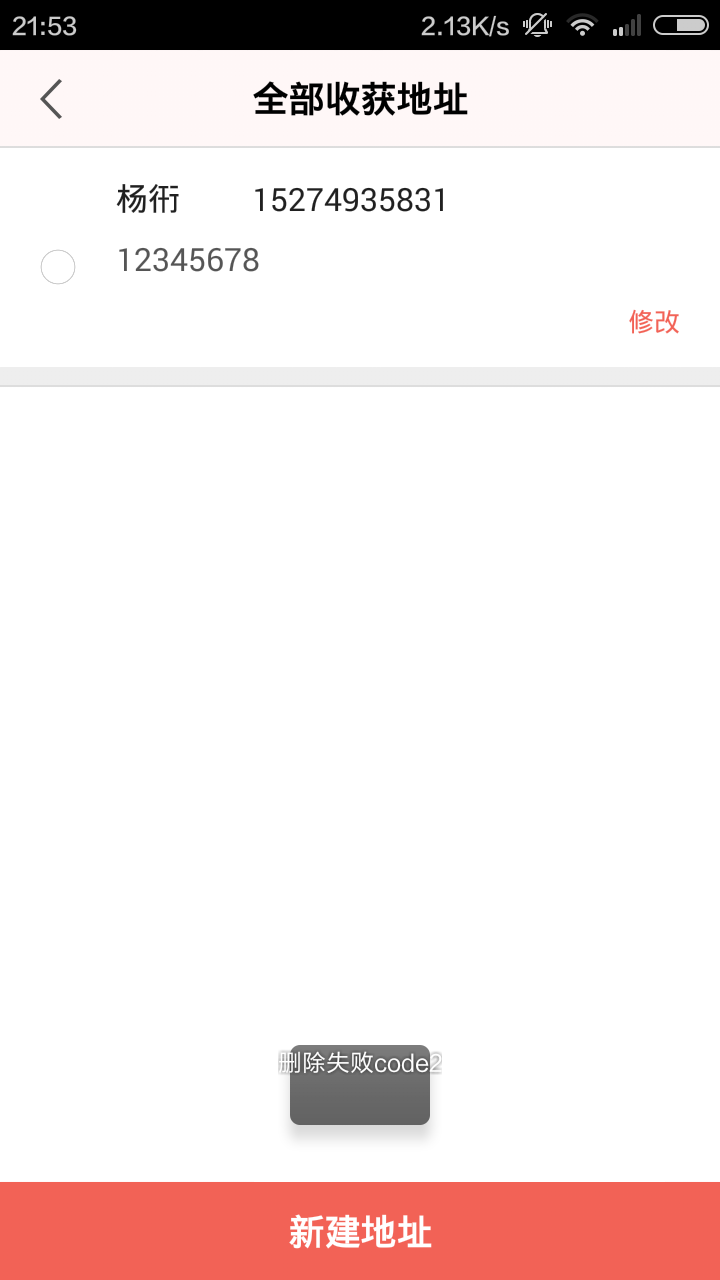alert: (274, 1033, 463, 1146)
button: (4, 1183, 714, 1280)
radiobutton: (31, 230, 86, 303)
